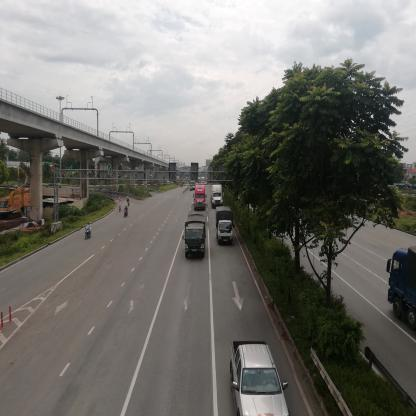car: (231, 341, 295, 416)
container: (194, 186, 207, 210), (211, 184, 222, 202)
motorbike: (84, 223, 93, 242), (126, 208, 130, 217), (127, 197, 130, 206)
truck: (187, 215, 207, 259), (217, 207, 236, 247)
